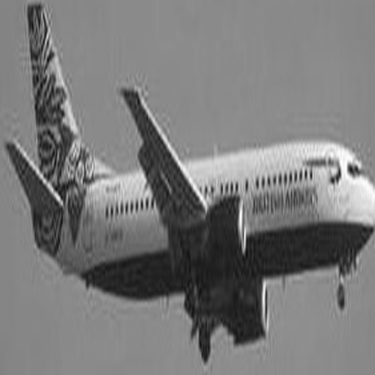airplane: (4, 2, 368, 372)
